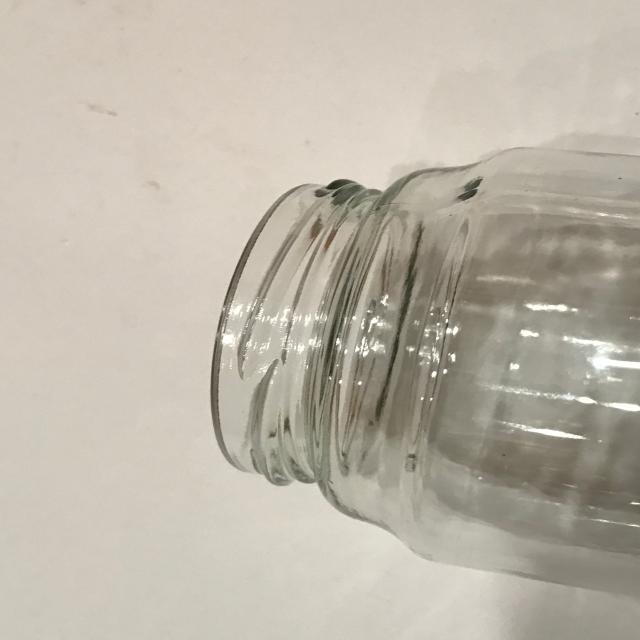glass: (209, 145, 640, 599)
